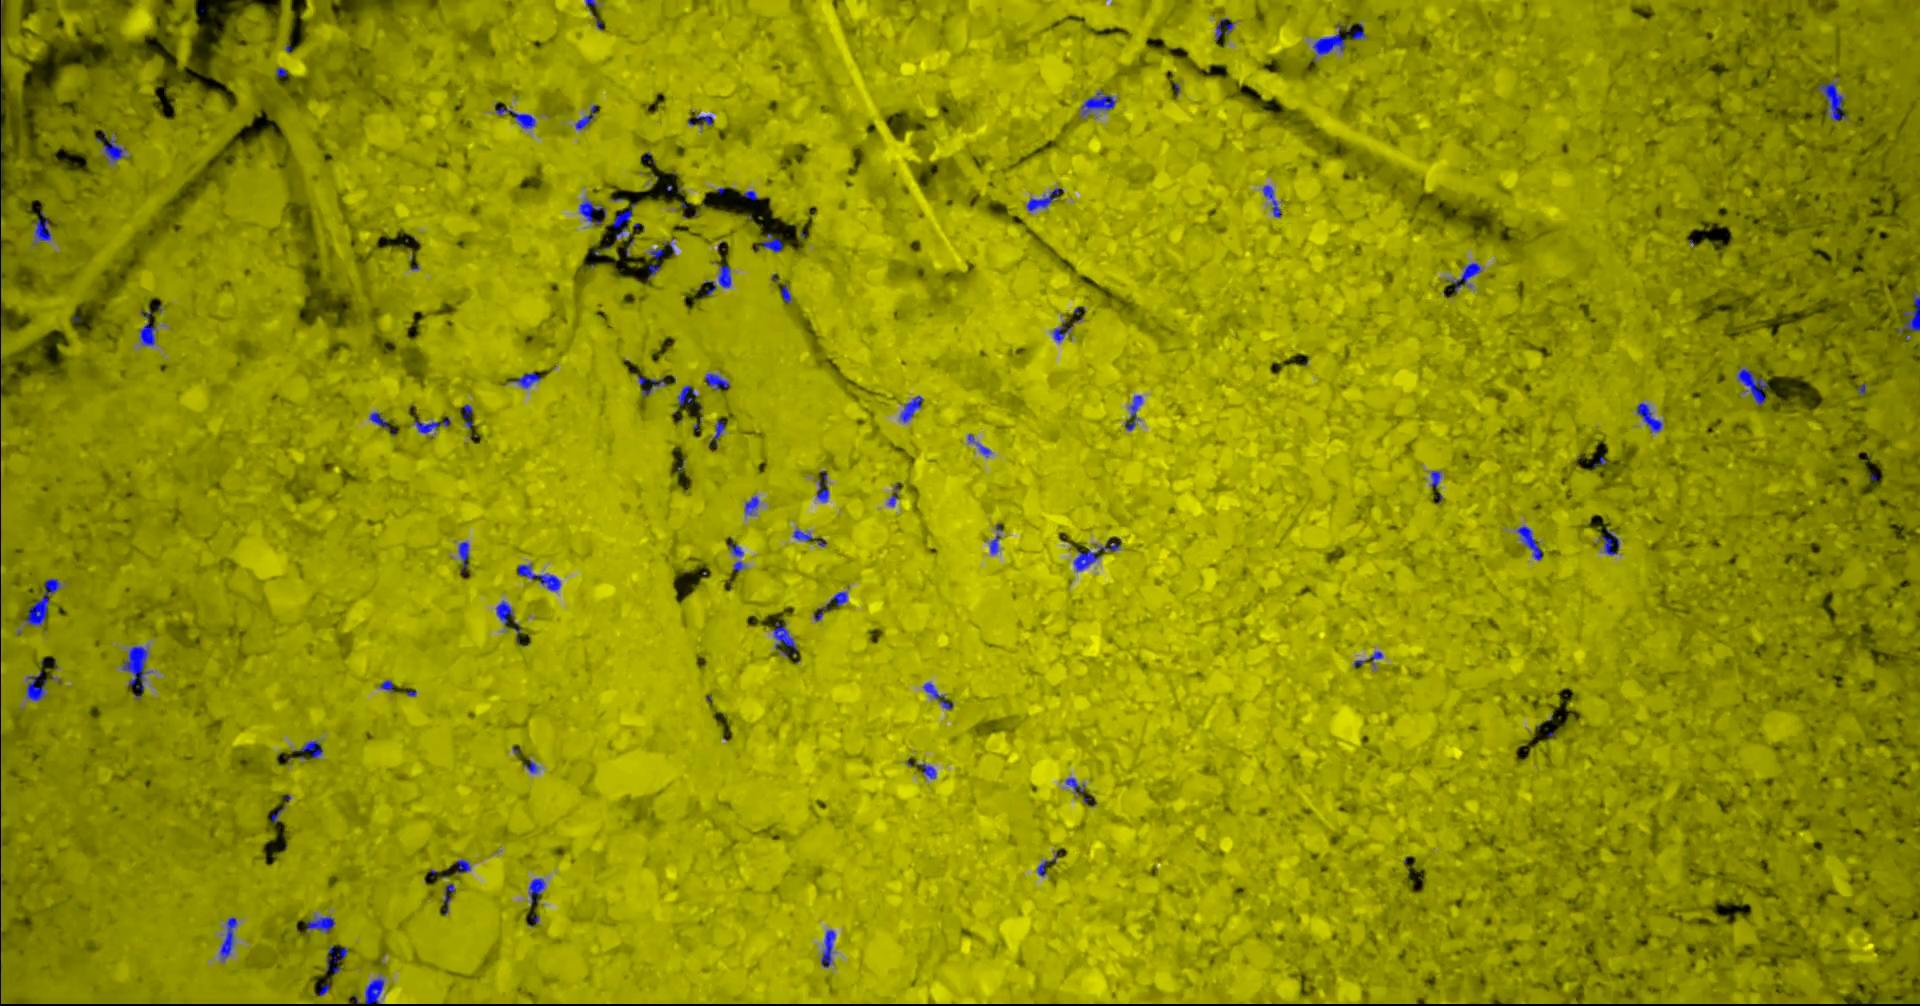ant: (25, 578, 60, 625), (1073, 539, 1120, 572), (121, 645, 149, 690), (1736, 368, 1768, 406), (1816, 83, 1848, 119), (517, 563, 560, 589), (1312, 23, 1345, 56), (494, 102, 535, 128), (813, 591, 847, 620), (1448, 262, 1481, 291), (1896, 290, 1919, 332), (1026, 187, 1063, 211), (1081, 90, 1115, 116), (1516, 526, 1542, 559), (772, 621, 796, 655), (218, 917, 237, 960), (703, 264, 730, 293), (1636, 401, 1662, 431), (923, 682, 952, 709), (579, 198, 604, 224), (1124, 395, 1142, 431), (25, 669, 46, 700), (905, 758, 936, 779), (899, 395, 922, 422), (611, 210, 632, 238), (138, 310, 155, 345), (414, 417, 450, 433), (820, 929, 836, 967), (325, 945, 347, 972), (363, 977, 383, 1005), (1262, 185, 1280, 217), (30, 211, 50, 240), (1597, 528, 1618, 555), (291, 741, 321, 758), (305, 916, 335, 934), (575, 104, 596, 130), (756, 232, 782, 251), (102, 138, 123, 161), (1036, 852, 1057, 875), (495, 600, 513, 625), (512, 372, 541, 387), (1214, 18, 1233, 41), (677, 385, 697, 405), (1051, 320, 1070, 342), (1352, 652, 1382, 666), (528, 878, 543, 904), (709, 420, 725, 445), (703, 373, 729, 389), (817, 470, 828, 502), (443, 883, 455, 915), (1345, 22, 1365, 39), (370, 412, 389, 429), (989, 523, 1001, 553), (458, 541, 469, 573), (637, 375, 665, 386), (888, 481, 900, 506), (792, 528, 817, 541), (1065, 777, 1084, 793), (728, 539, 743, 556), (744, 495, 758, 514), (452, 859, 470, 873), (462, 404, 472, 427), (780, 285, 791, 304), (1430, 470, 1440, 488), (378, 680, 392, 691), (695, 116, 712, 124)
